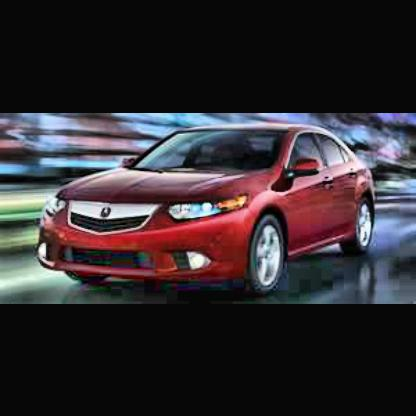Acura TSX Sedan 2012: (38, 125, 374, 290)
